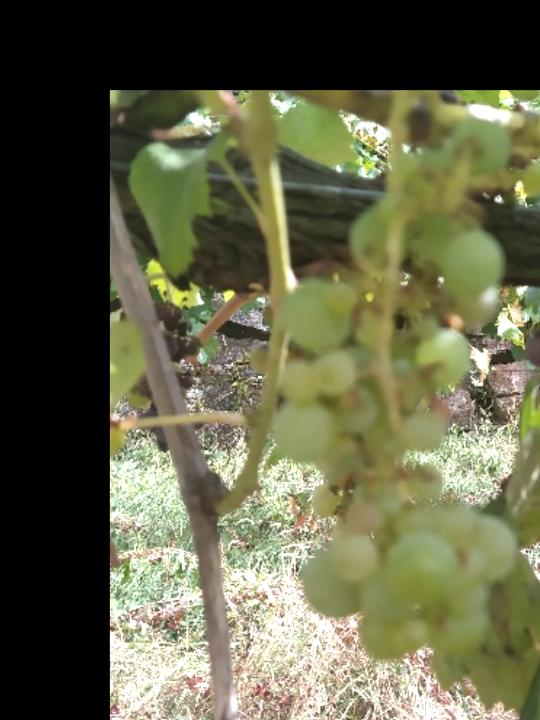grape: (265, 181, 524, 689)
